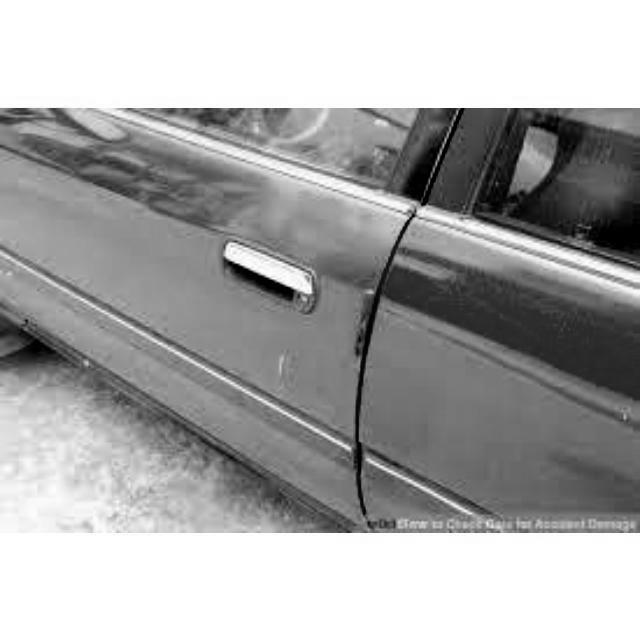doorouter-dent: (22, 107, 329, 435)
